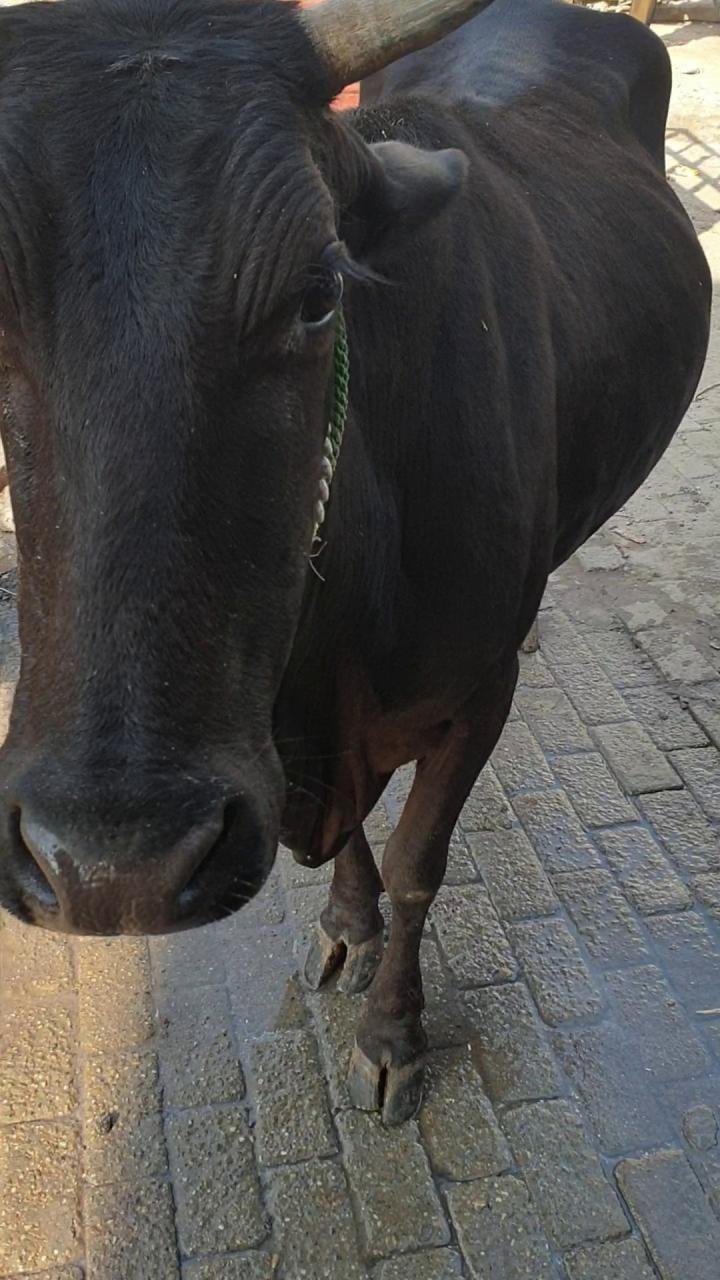cows: (0, 0, 448, 951)
